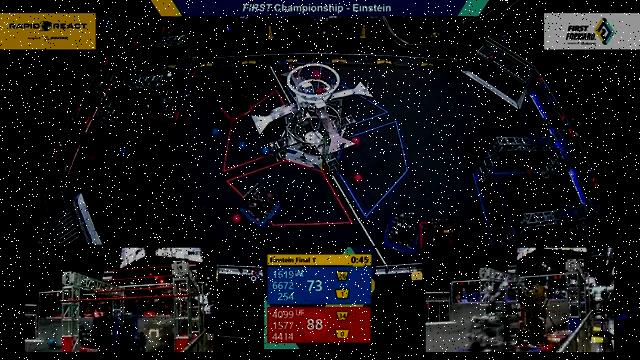Robot: (237, 181, 283, 228), (376, 209, 421, 255), (419, 207, 459, 258), (213, 78, 257, 124)
